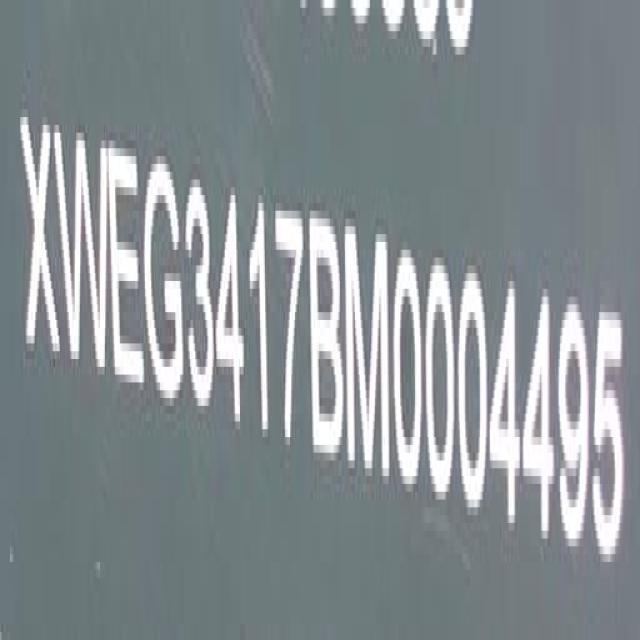0: (456, 270, 489, 528), (423, 249, 455, 508), (391, 258, 424, 485)
1: (244, 189, 272, 434)
3: (183, 177, 214, 418)
4: (489, 276, 521, 520), (214, 192, 246, 426), (524, 292, 553, 536)
5: (591, 304, 624, 566)
7: (276, 205, 304, 457)
9: (556, 308, 590, 547)
B: (309, 211, 344, 469)
E: (106, 142, 144, 407)
G: (143, 155, 185, 410)
M: (342, 224, 391, 469)
W: (54, 124, 110, 372)
X: (20, 108, 58, 360)
